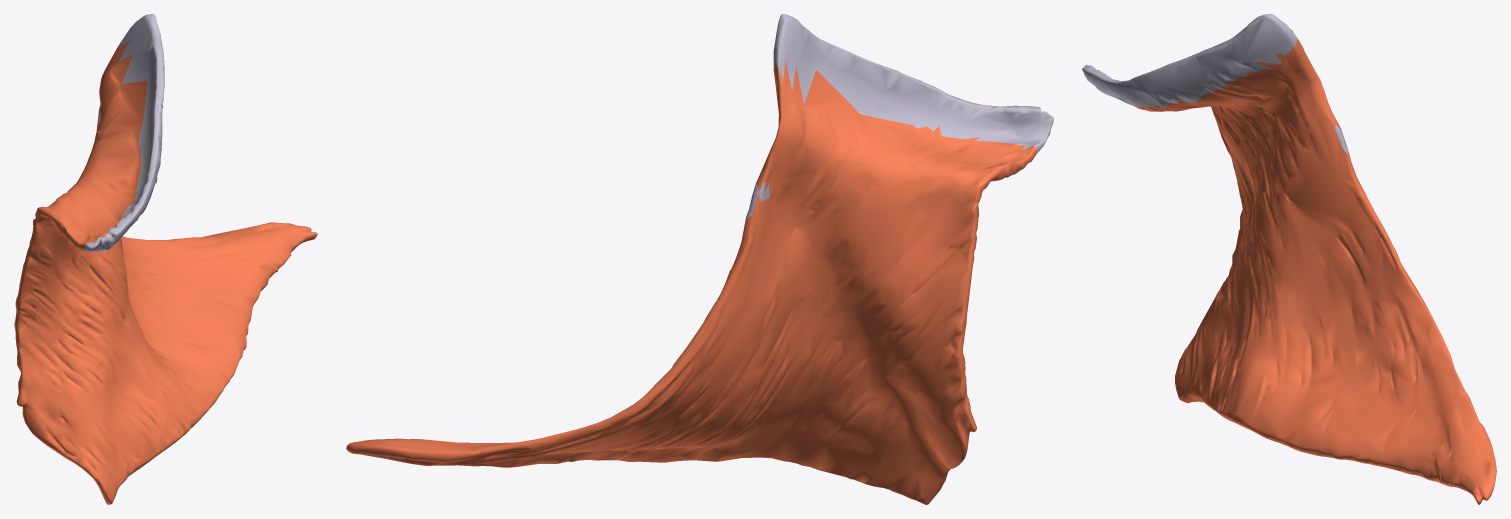
Rendered from Platysma.l_Generated_Mesh_From_X3D.292.glb.
3 renders of one model, left to right at view 1: azimuth 30°, elevation 25°; view 2: azimuth 150°, elevation 25°; view 3: azimuth 270°, elevation 25°, orthographic. The views are drawn at different scales.
Visible parts, largest first — view 1: Platysma.l_Generated_Mesh_From_X3D.292; view 2: Platysma.l_Generated_Mesh_From_X3D.292; view 3: Platysma.l_Generated_Mesh_From_X3D.292.
Boxes of the visible parts, <box> form: Platysma.l_Generated_Mesh_From_X3D.292: <box>14,14,317,504</box>; Platysma.l_Generated_Mesh_From_X3D.292: <box>346,14,1053,504</box>; Platysma.l_Generated_Mesh_From_X3D.292: <box>1082,14,1496,504</box>.
Size of the model in its own units: 0.1439 by 0.1421 by 0.1245.
